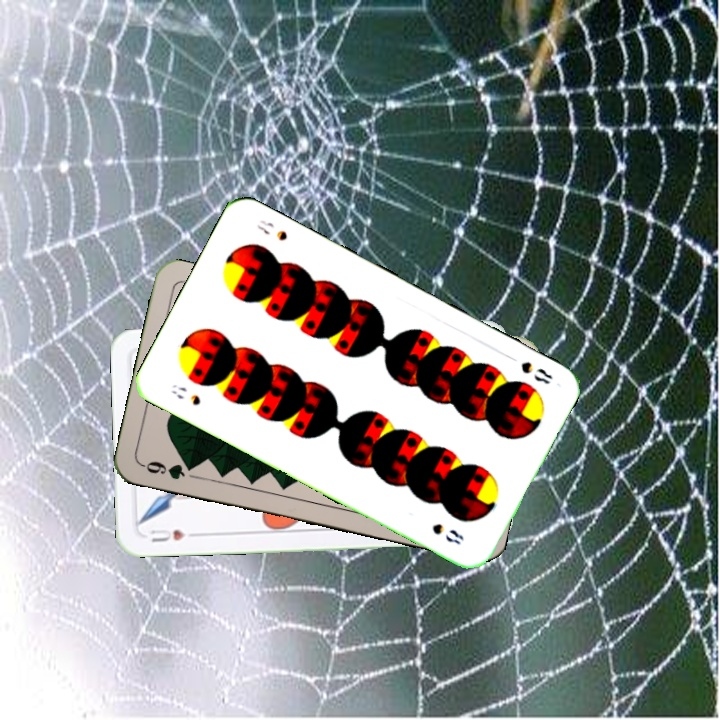G9: (138, 457, 199, 482)
HU: (146, 525, 187, 545)
S8: (516, 357, 555, 388), (168, 380, 204, 408)
